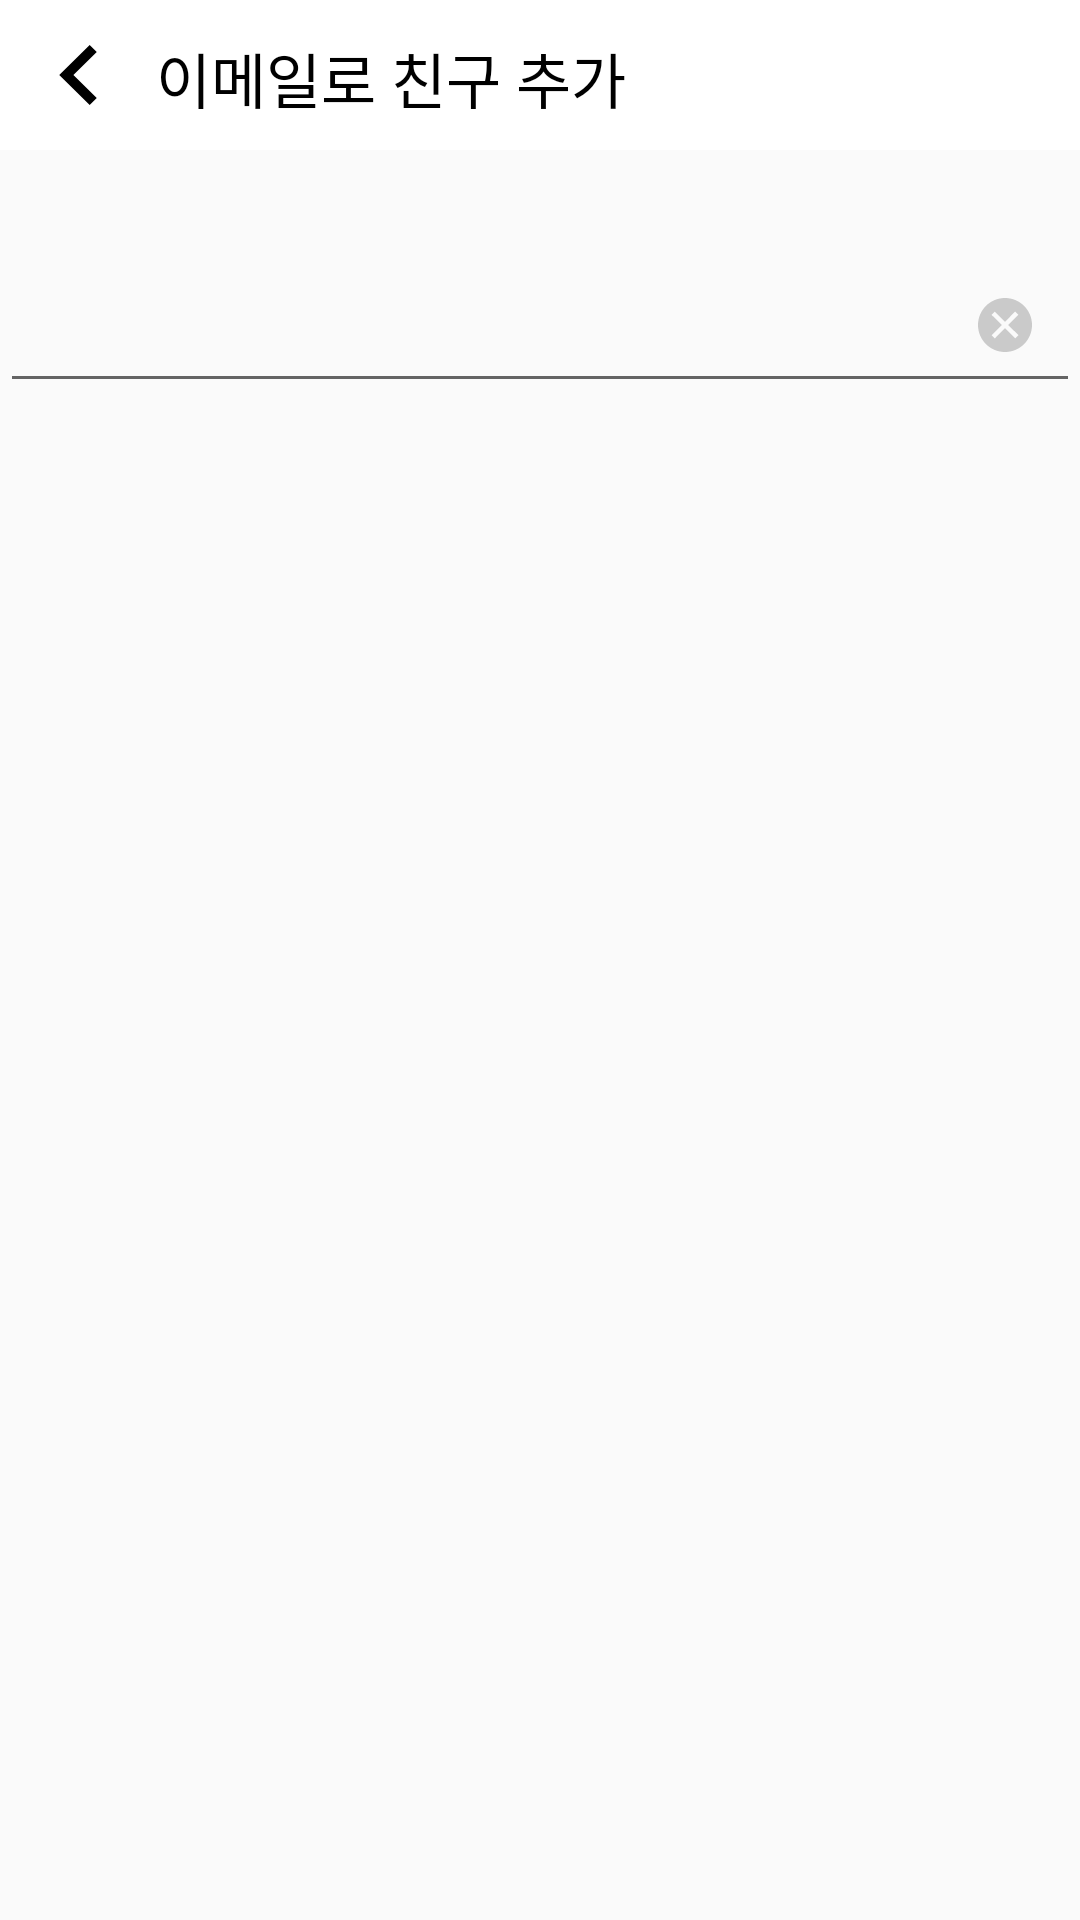

Icons on this 1080 × 1920 Android screen, each with the point to tap as [x,y]:
back arrow: [78,75]
